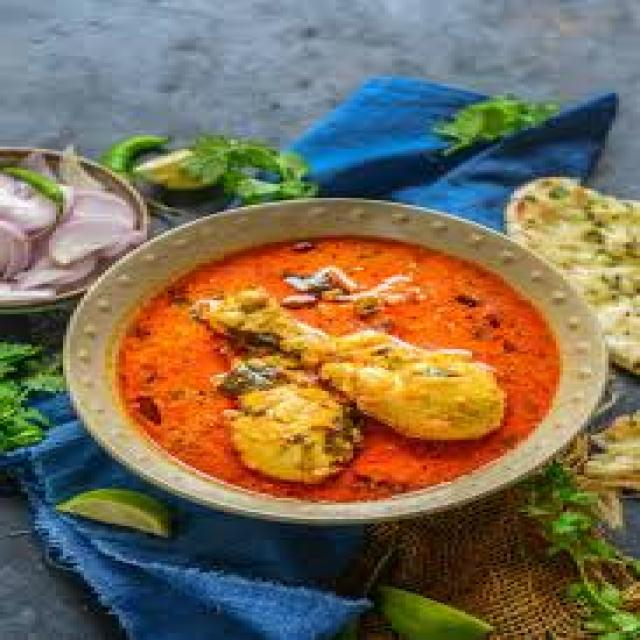Chicken Curry: (109, 235, 566, 500)
